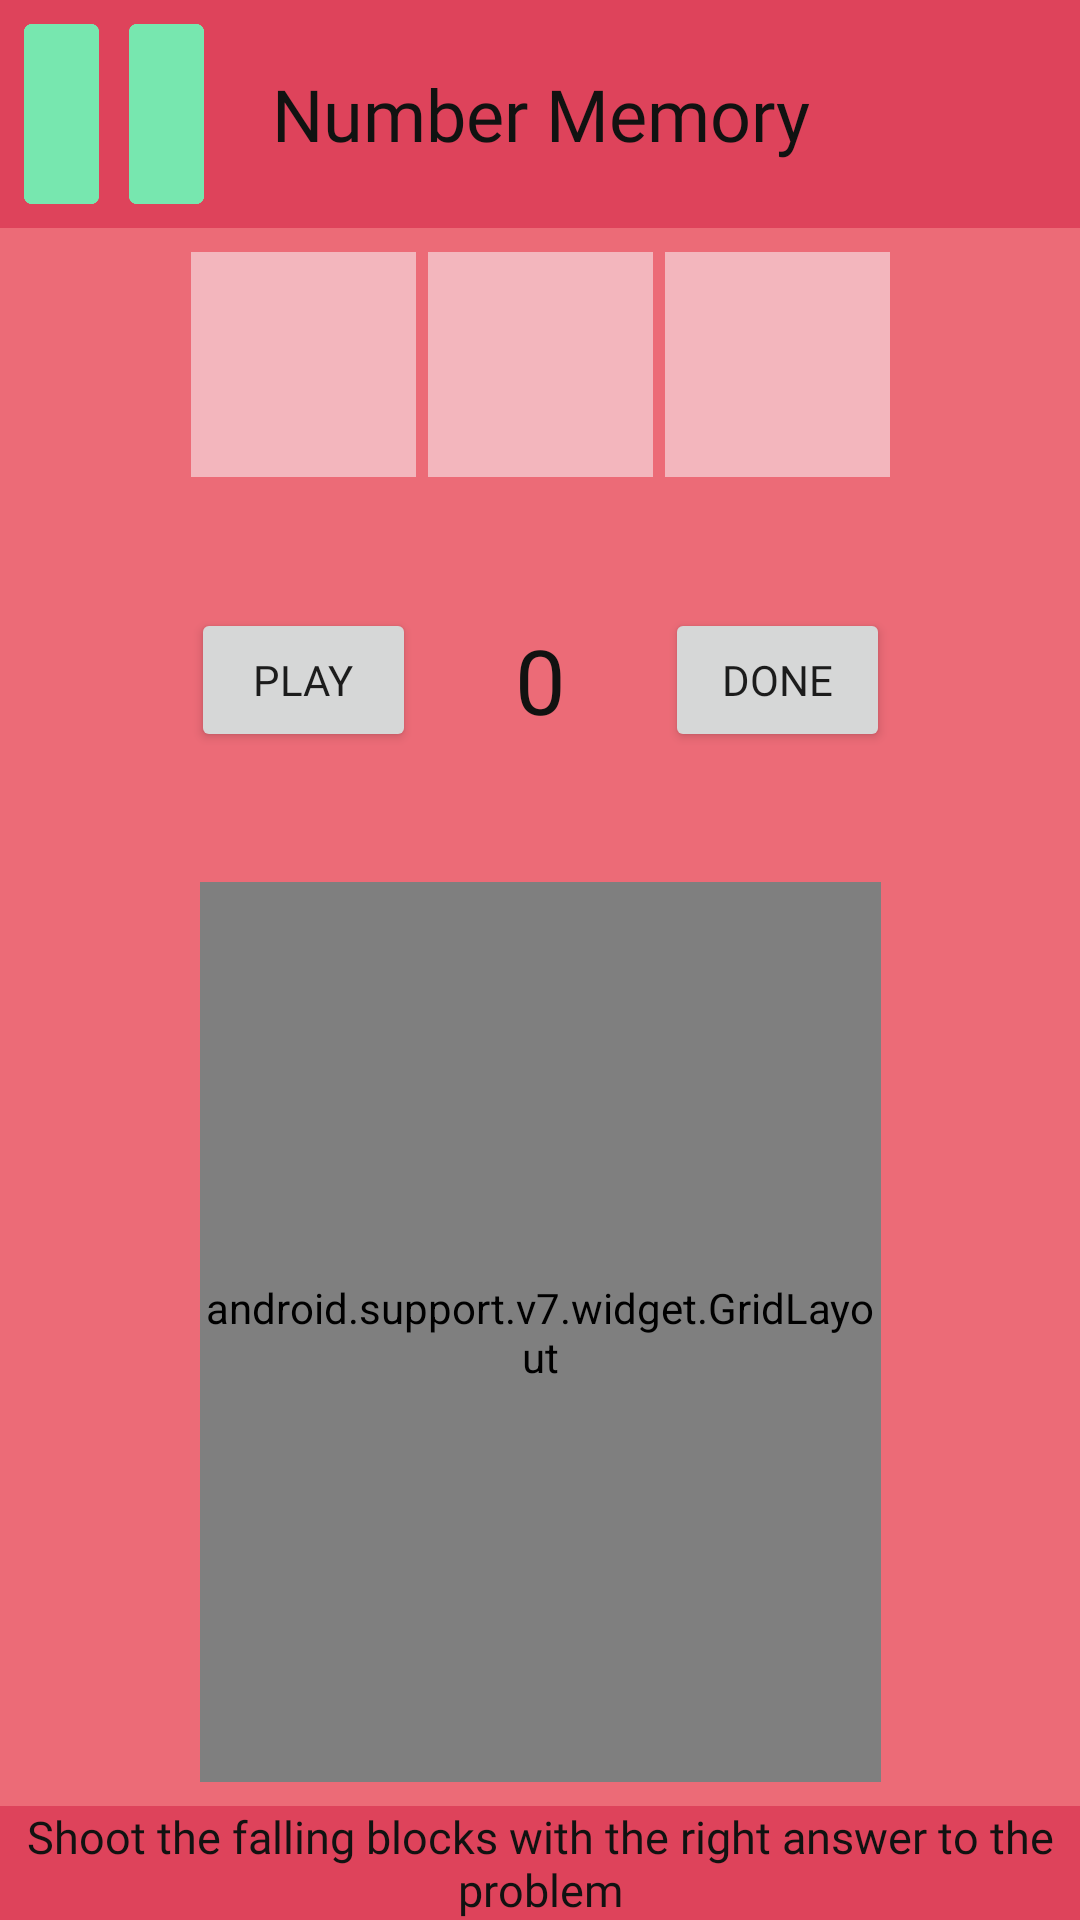

Screen size 1080*1920. Icon name, then its center in pixels as (x,y):
pause: (114,114)
